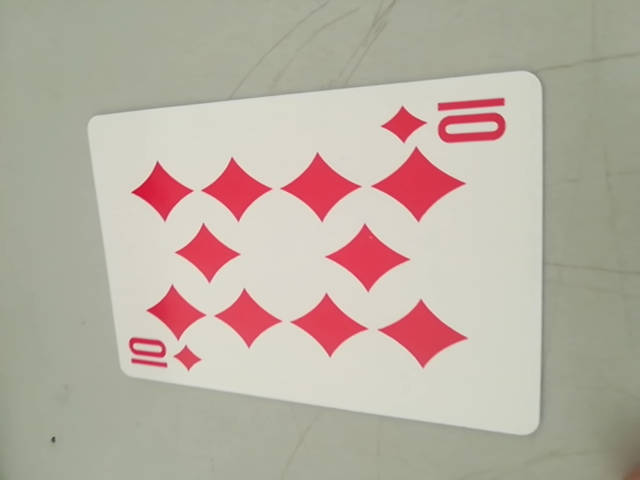fk 10: (385, 90, 517, 153), (120, 331, 209, 380)
